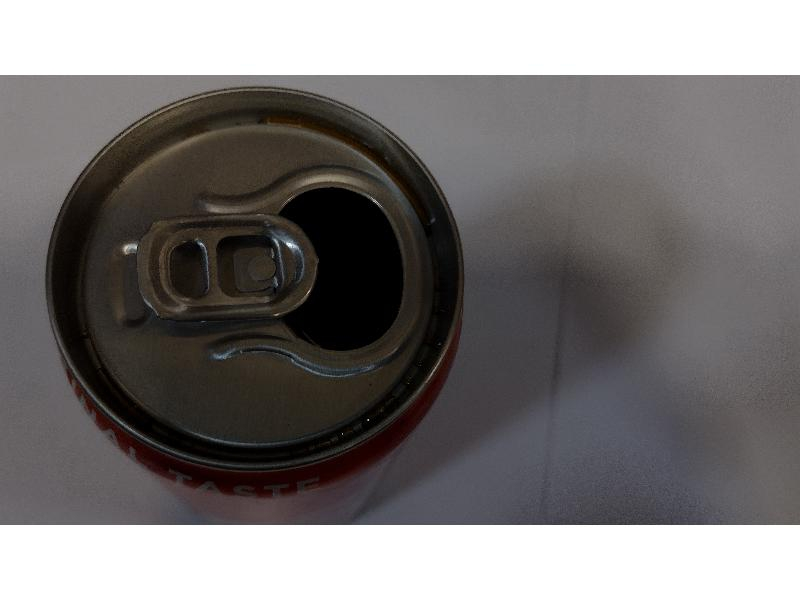can: (46, 83, 469, 476)
